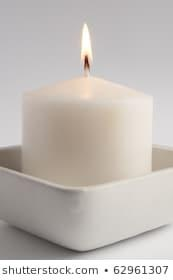fire: (78, 19, 94, 76)
